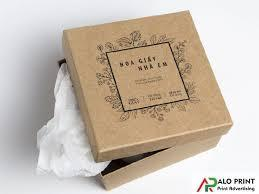box: (58, 9, 234, 192)
